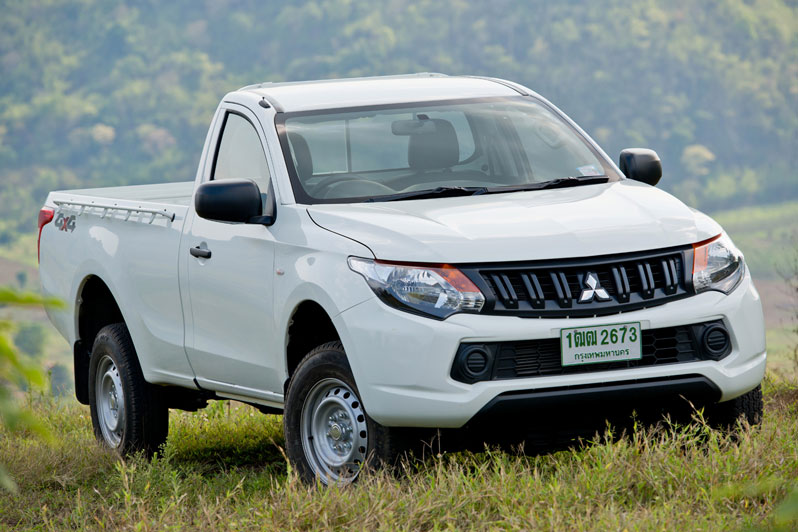pickup: (32, 69, 768, 489)
